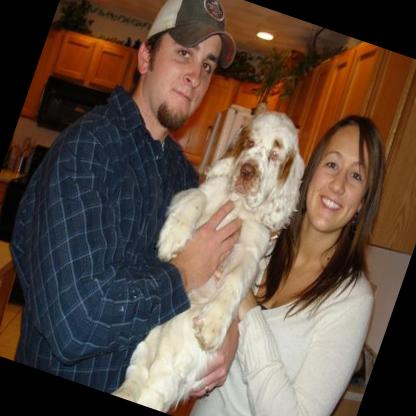clumber: (100, 81, 329, 416)
